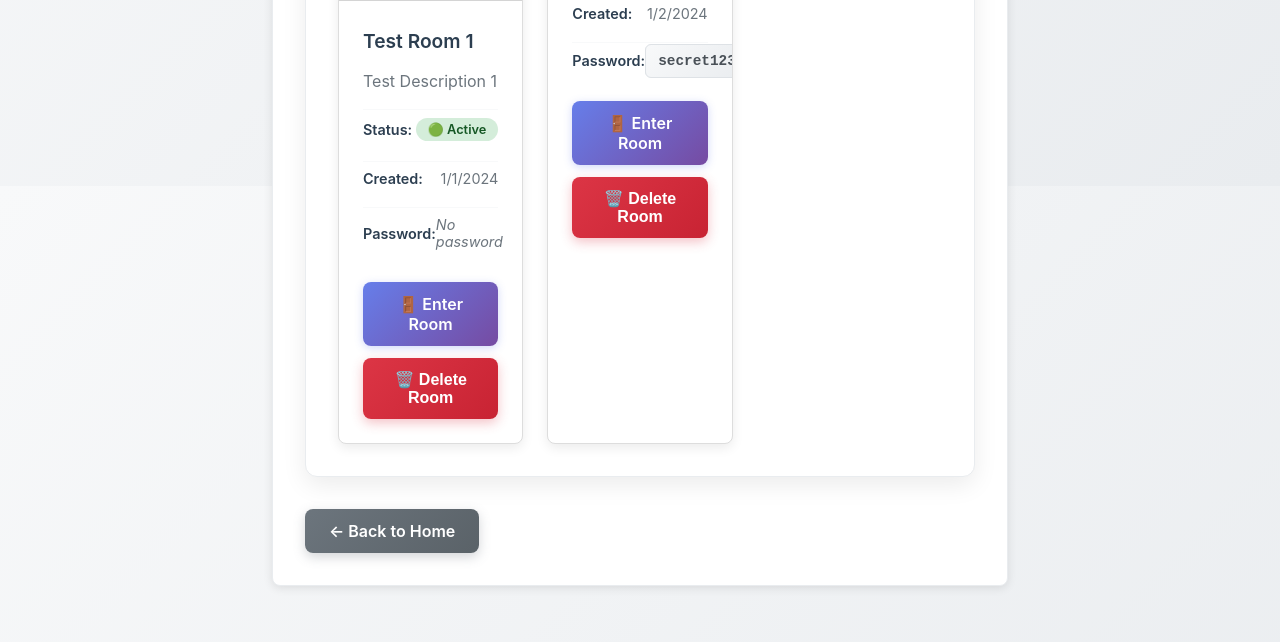
TutorView - Delete Room Modal › should close modal when Cancel button is clicked
The image size is (1280, 642).
(page scrolled)
Expected: the heading "Test Room 1" is shown, x1=363 y1=29 x2=474 y2=53
Open modal
Click the button "🗑️ Delete Room" below "No password": x=431, y=388 x1=363 y1=358 x2=498 y2=419
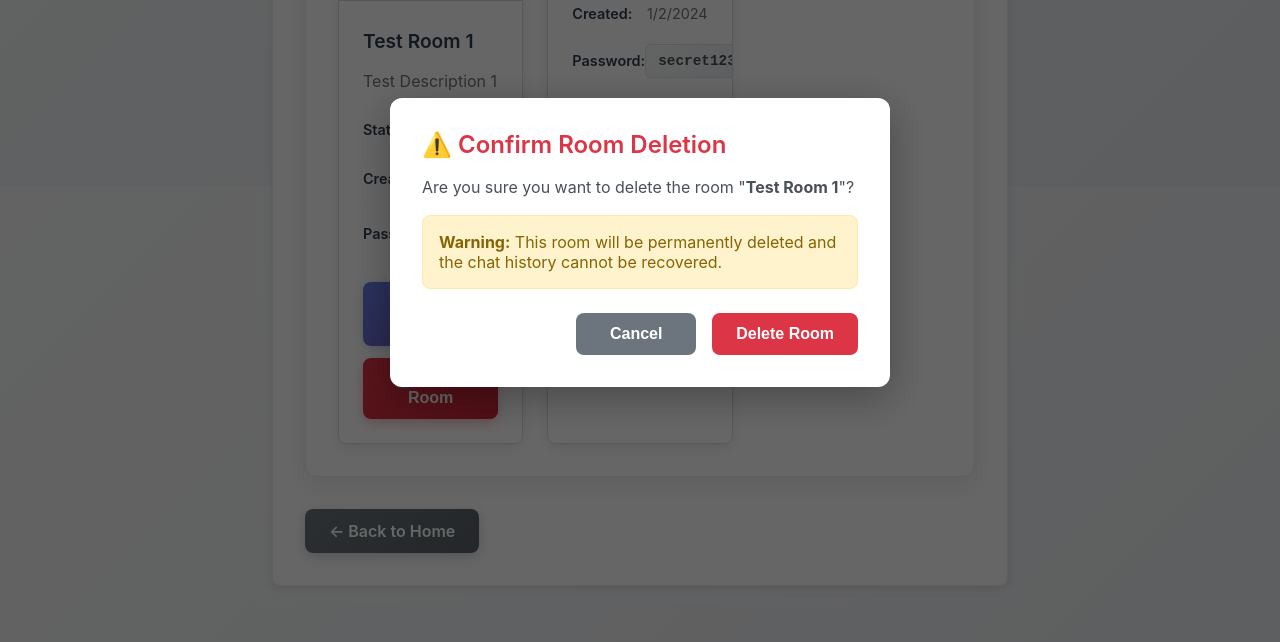
Now the heading "⚠️ Confirm Room Deletion" is shown, box x1=422 y1=130 x2=726 y2=158
Click cancel button
Click the button "Cancel": x=636, y=334 x1=576 y1=312 x2=696 y2=354
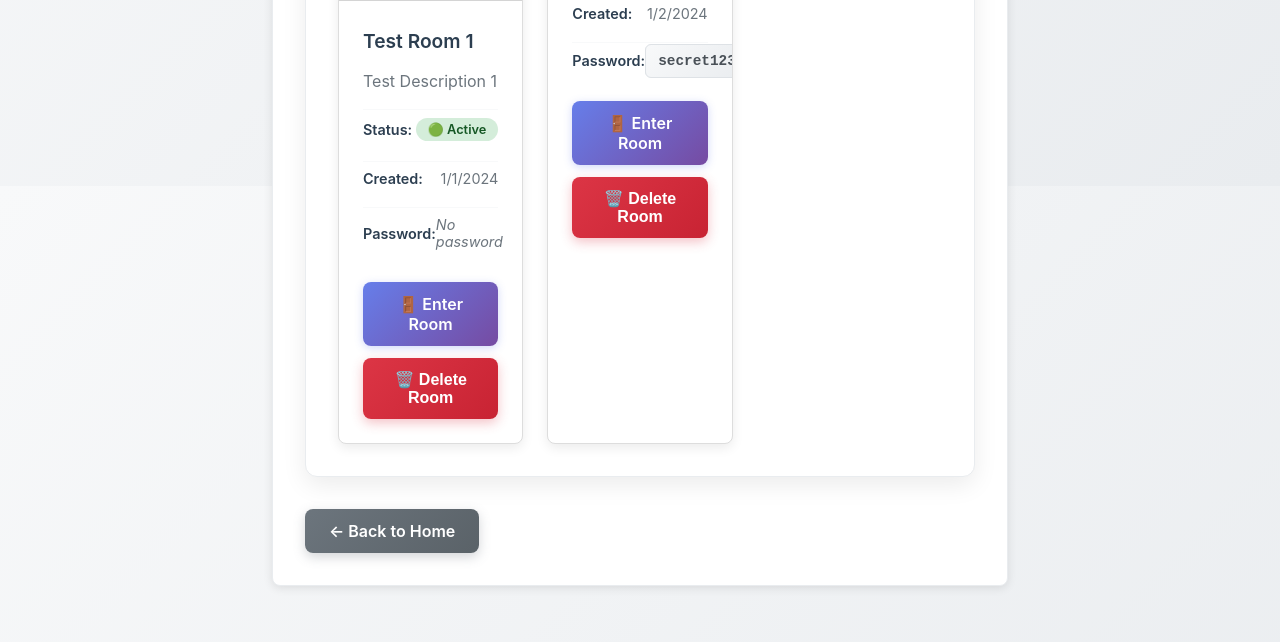
Now the heading "Confirm Room Deletion" is gone
